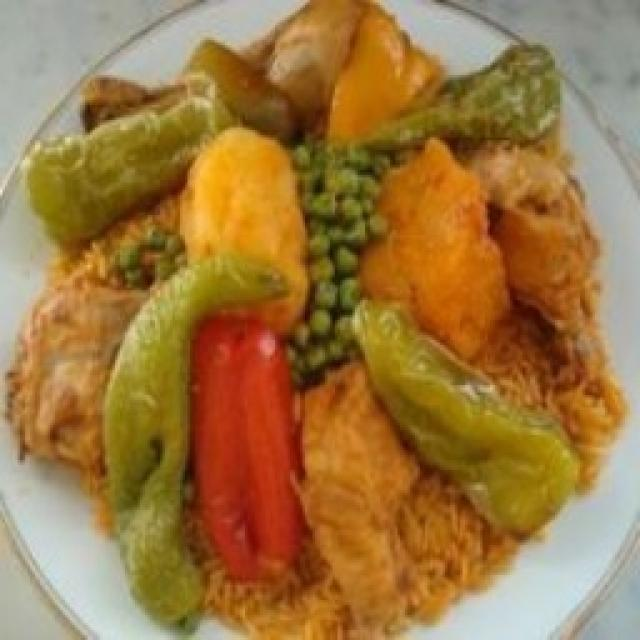Couscous: (10, 0, 625, 640)
